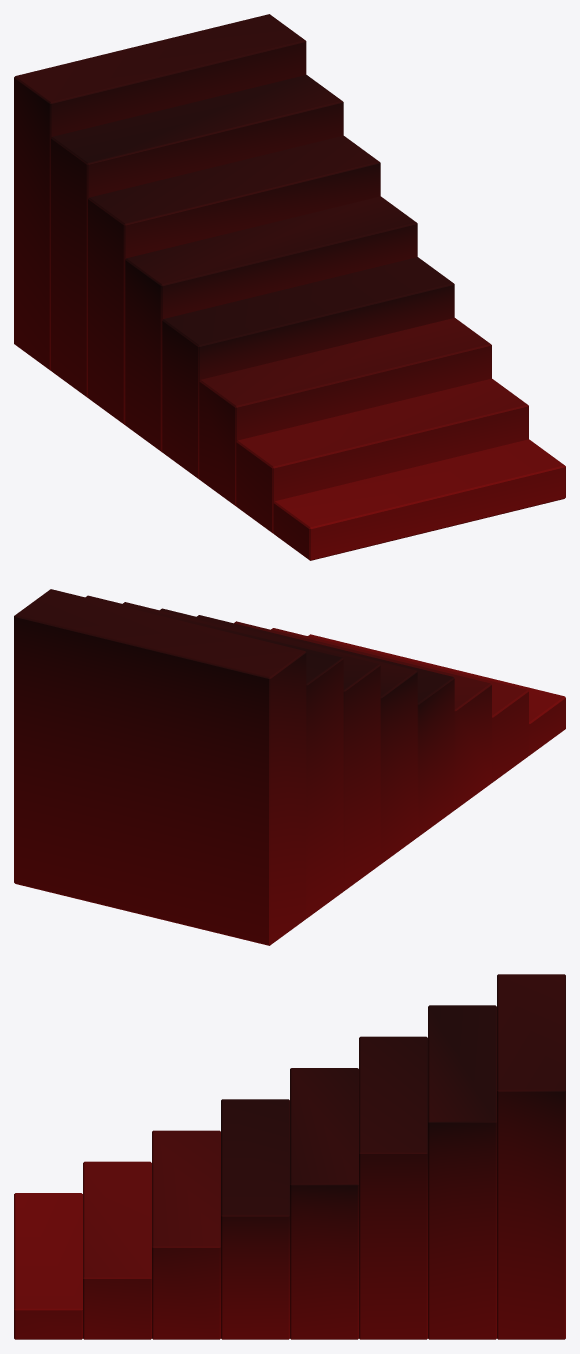
Rendered from stairs_2m.glb.
3 views of the same model, one above another, from view 1: azimuth 30°, elevation 25°; view 2: azimuth 150°, elevation 25°; view 3: azimuth 270°, elevation 25° (orthographic). The views are drawn at different scales.
Visible parts, largest first — view 1: stairs_2m; view 2: stairs_2m; view 3: stairs_2m.
Part boxes in pixels (bbox=[...]): stairs_2m: bbox=[14, 14, 565, 560]; stairs_2m: bbox=[14, 589, 565, 945]; stairs_2m: bbox=[14, 974, 565, 1339].
Size of what is drawn, in the model's own units: 2 by 2 by 4.
